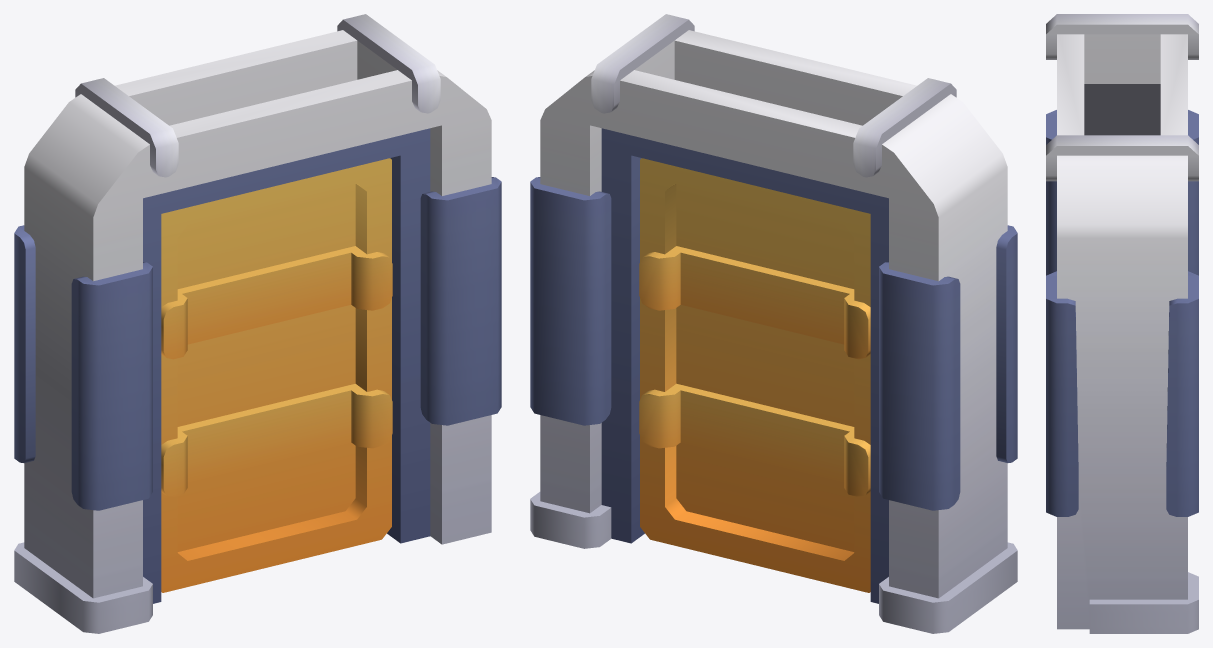
The model's file is os_bulkhead.glb.
The picture shows the model from 3 angles, left to right: view 1: azimuth 30°, elevation 25°; view 2: azimuth 150°, elevation 25°; view 3: azimuth 270°, elevation 25°; orthographic projection. The views are drawn at different scales.
Visible parts, largest first — view 1: gate-door, door; view 2: gate-door, door; view 3: gate-door.
Boxes of the visible parts, x1,y1,x2,y2 form: gate-door: (14,14,501,633); door: (161,158,392,592); gate-door: (530,14,1017,633); door: (639,158,870,592); gate-door: (1046,14,1198,633).
Bounding box in the file's own units: 3.61 × 3.97 × 1.2.
1 material, 1 textured.
